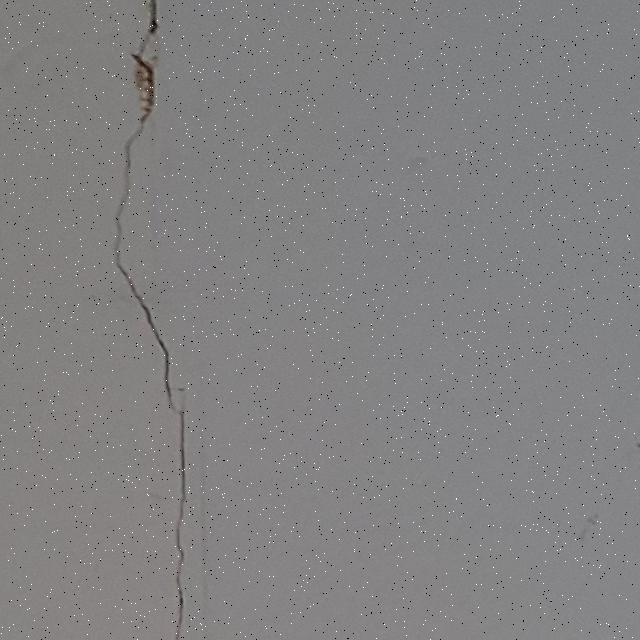moderate crack: (170, 418, 187, 638)
severe crack: (115, 12, 190, 634), (4, 16, 45, 577)
